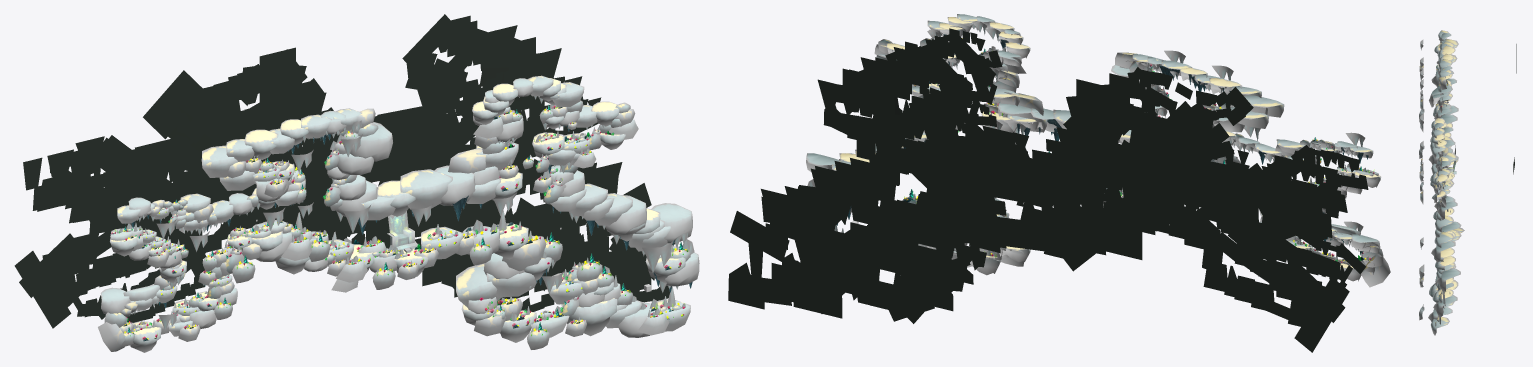
The model's file is Level2Export.fbx.
3 views of the same model, side by side, from view 1: azimuth 30°, elevation 25°; view 2: azimuth 150°, elevation 25°; view 3: azimuth 270°, elevation 25° (orthographic). The views are drawn at different scales.
Parts seen in each view (by area): view 1: Active, Far, Background, Mid, Front; view 2: Far, Active, Background, Mid, Front; view 3: Active, Front.
Part boxes in pixels (left/top/right/bottom): Active: left=98, top=75, right=699, bottom=352; Far: left=14, top=14, right=651, bottom=328; Background: left=58, top=40, right=651, bottom=317; Mid: left=93, top=67, right=674, bottom=322; Front: left=156, top=121, right=673, bottom=349; Far: left=728, top=46, right=1349, bottom=352; Active: left=806, top=14, right=1390, bottom=287; Background: left=782, top=35, right=1347, bottom=287; Mid: left=797, top=28, right=1368, bottom=282; Front: left=951, top=38, right=1365, bottom=246; Active: left=1428, top=30, right=1464, bottom=335; Front: left=1419, top=39, right=1424, bottom=320.
Size of what is drawn, in the model's own units: 26366 by 12620 by 6046.
